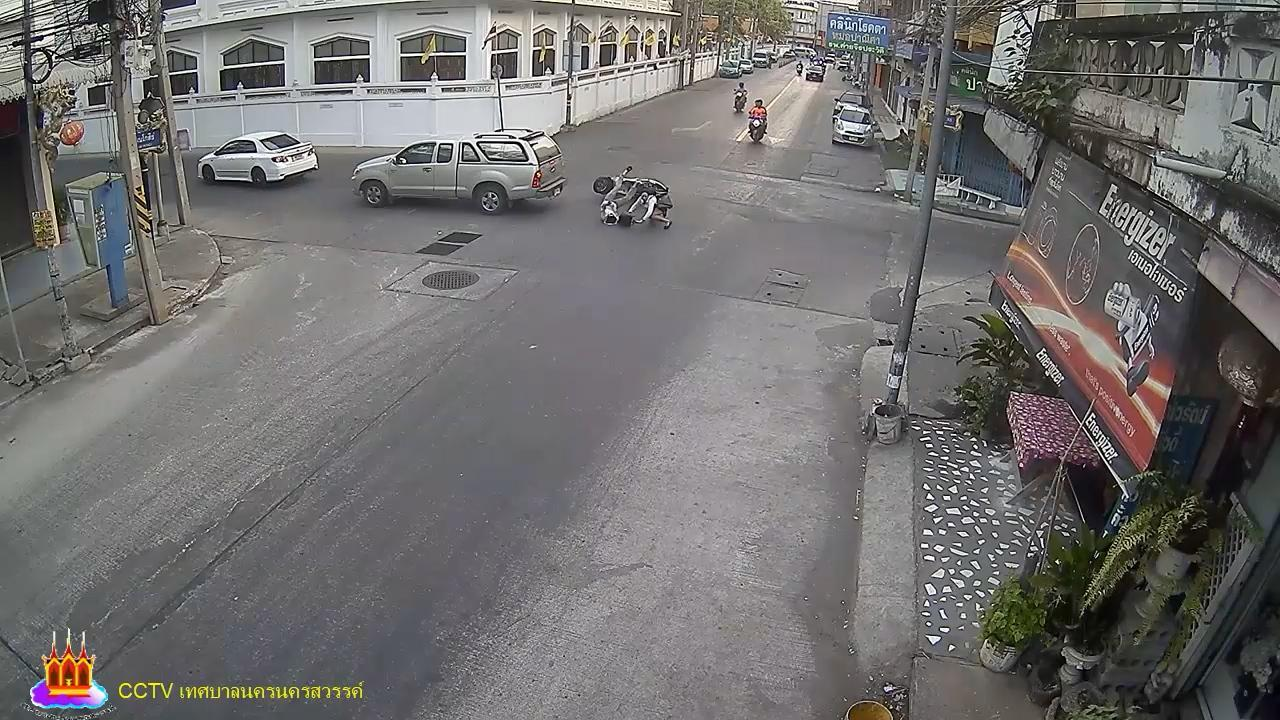accident: (599, 167, 640, 228), (626, 189, 673, 229)
